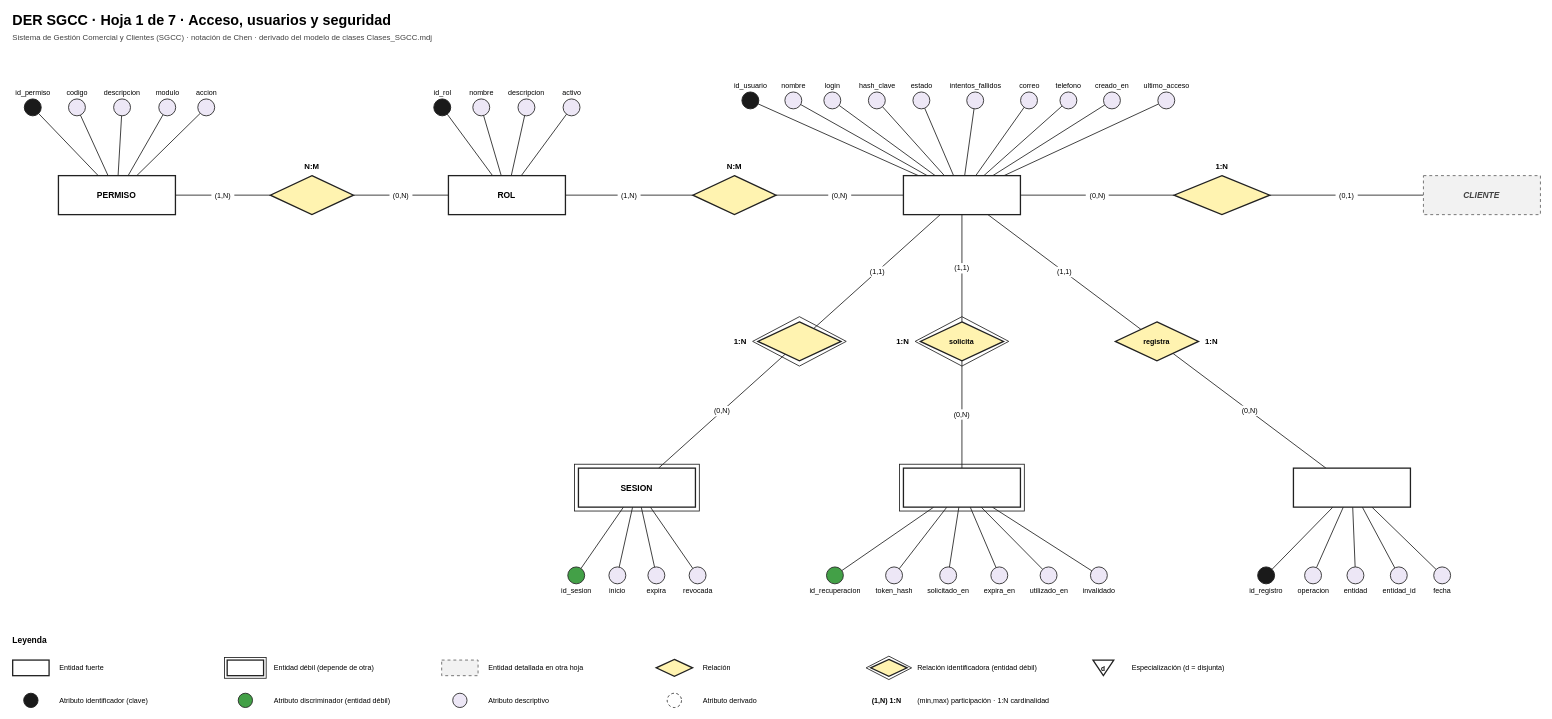
Image size: 1552x719. Some labels were removed from this diagram. The box of each missing label's shape, as (x1, y1, x2, y2) in pixels:
asignado: (692, 175, 776, 215)
autoriza: (269, 175, 354, 215)
cuenta_portal: (1173, 175, 1270, 215)
inicia: (757, 321, 841, 361)
RECUPERACION_ACCESO: (902, 467, 1021, 507)
REGISTRO_AUDITORIA: (1292, 467, 1411, 507)
USUARIO: (902, 175, 1021, 215)
